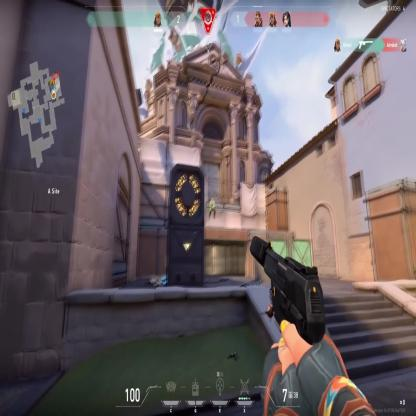enemy: (208, 197, 216, 220)
enemy_head: (212, 197, 214, 202)
